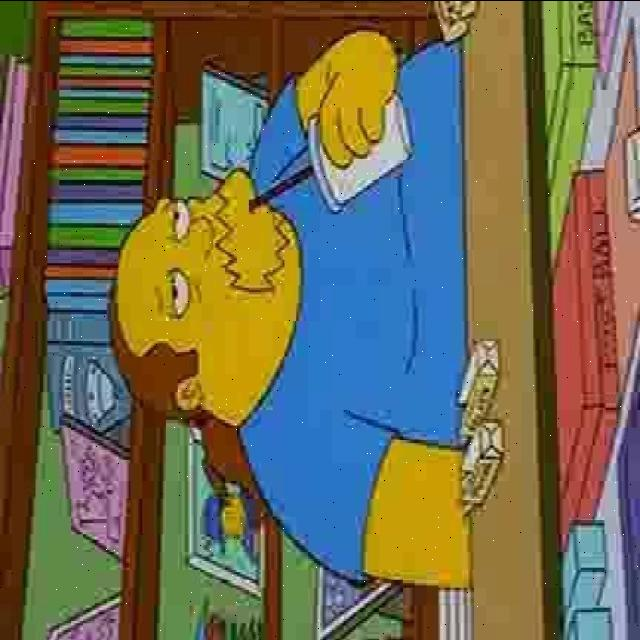Comic Book Guy: (108, 160, 306, 449)
